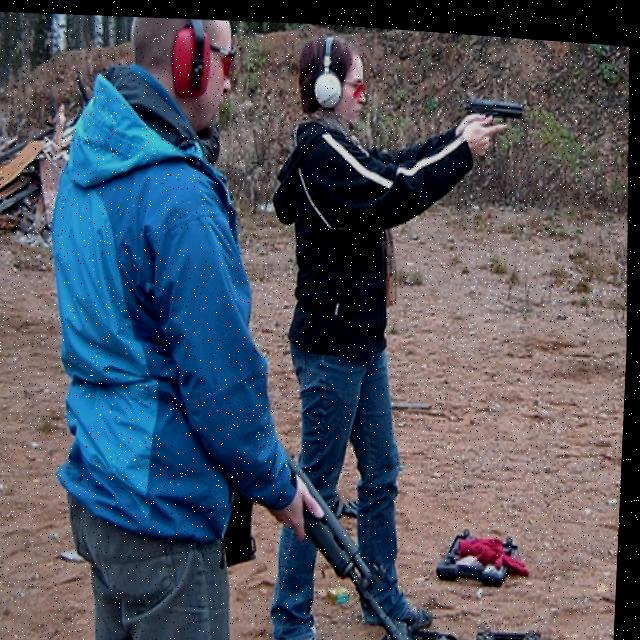firearm: (280, 451, 433, 640)
pistol: (465, 87, 525, 115)
